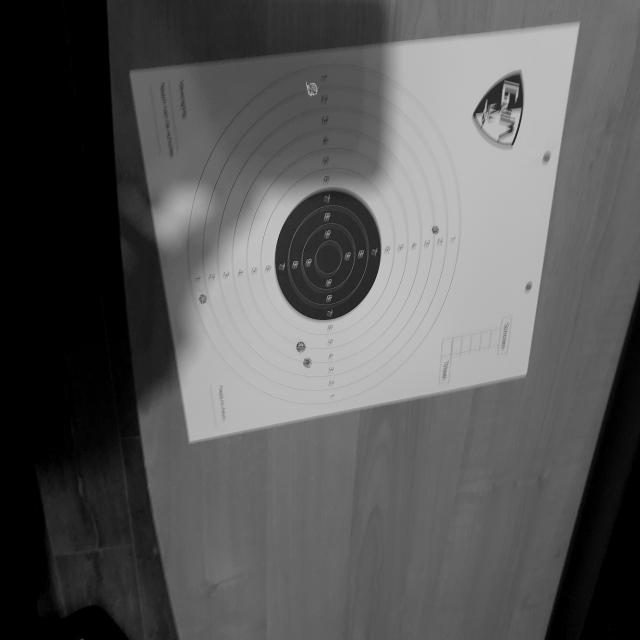1: (197, 292, 208, 306)
2: (306, 83, 318, 97)
3: (431, 224, 440, 236)
4: (304, 358, 312, 368)
5: (296, 341, 306, 354)
Target: (185, 67, 463, 413)
black_contour: (274, 188, 382, 321)
